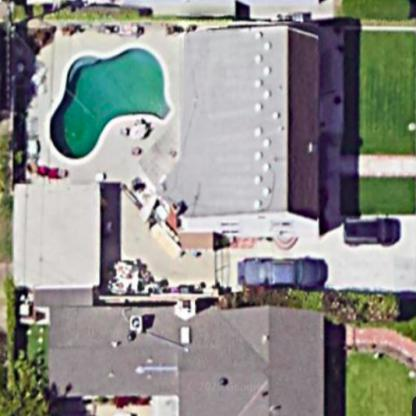car: (230, 250, 334, 298), (336, 209, 396, 257)
swimming_pool: (42, 29, 171, 167)
